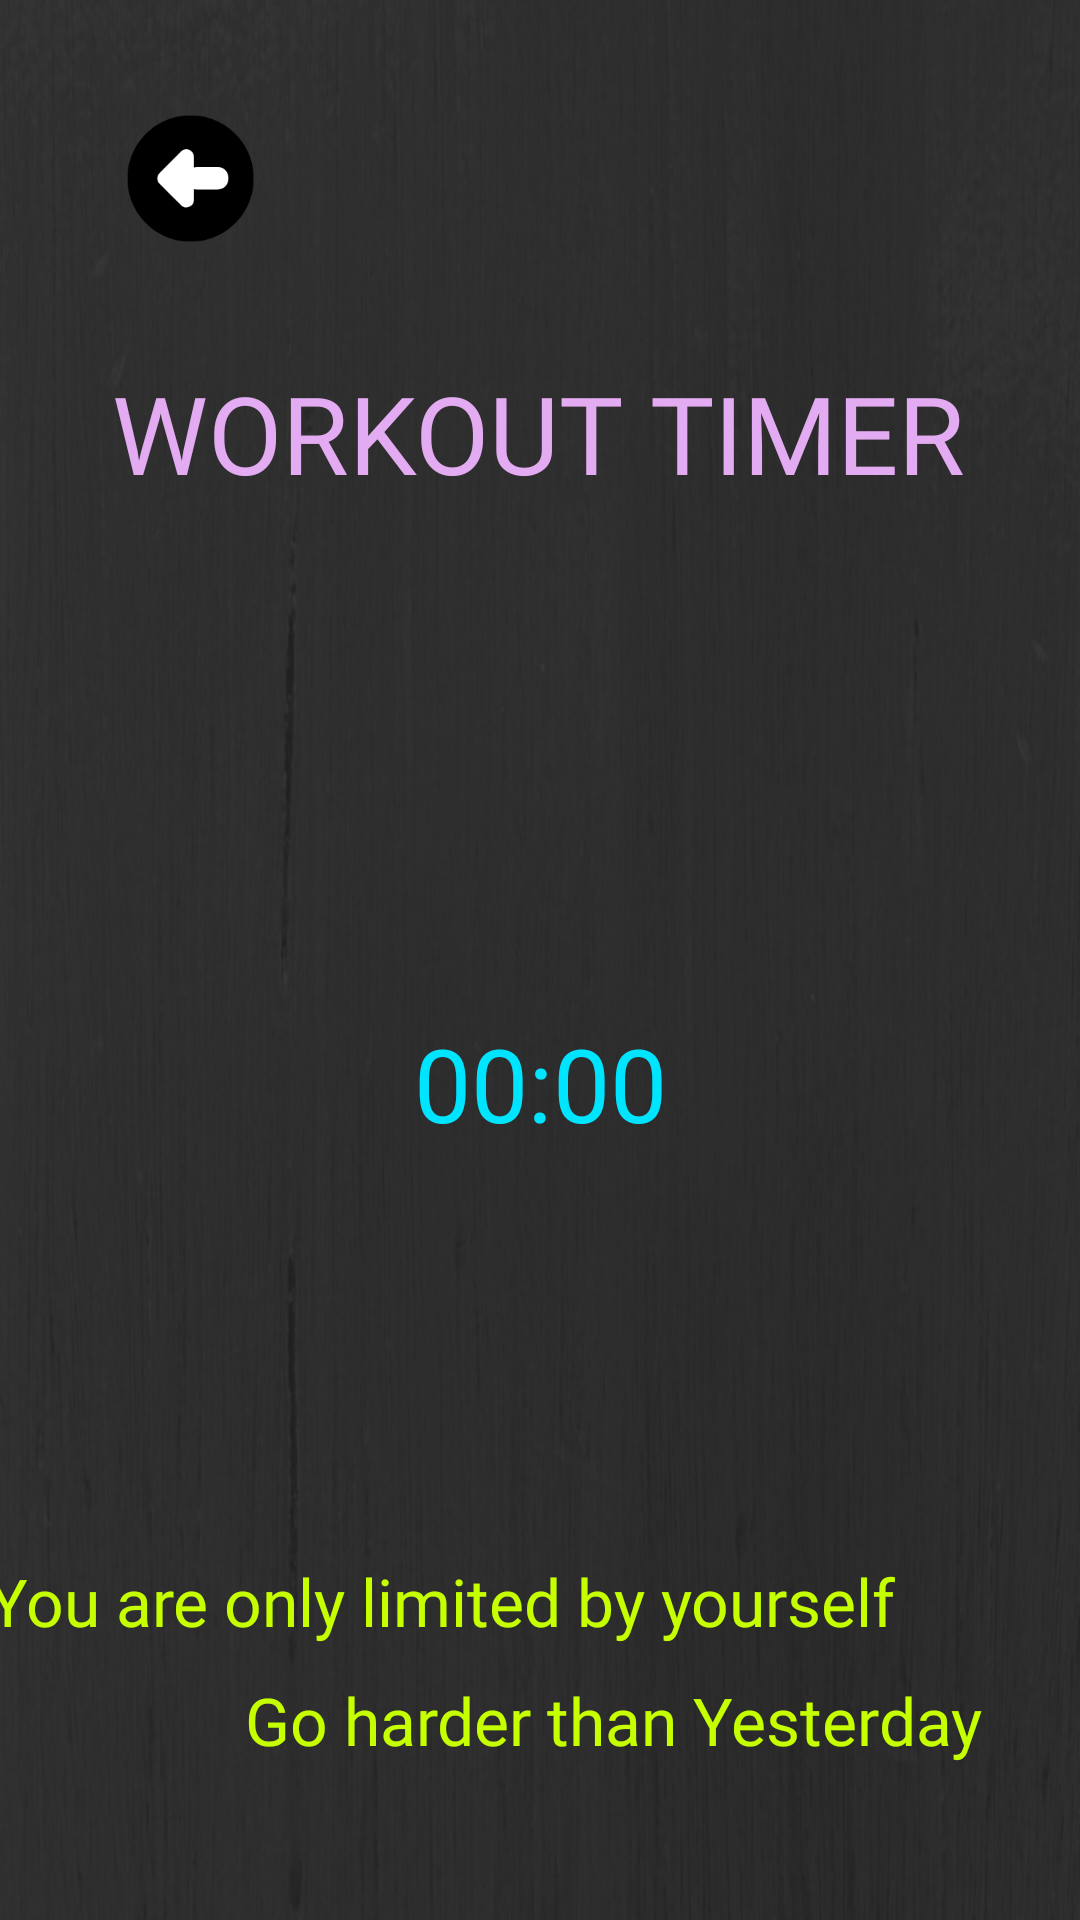

Locate icon controls on the screen. Image size 1080w x 1920h, boxes as (x1, y1, x2, y2).
back: (128, 116, 253, 241)
